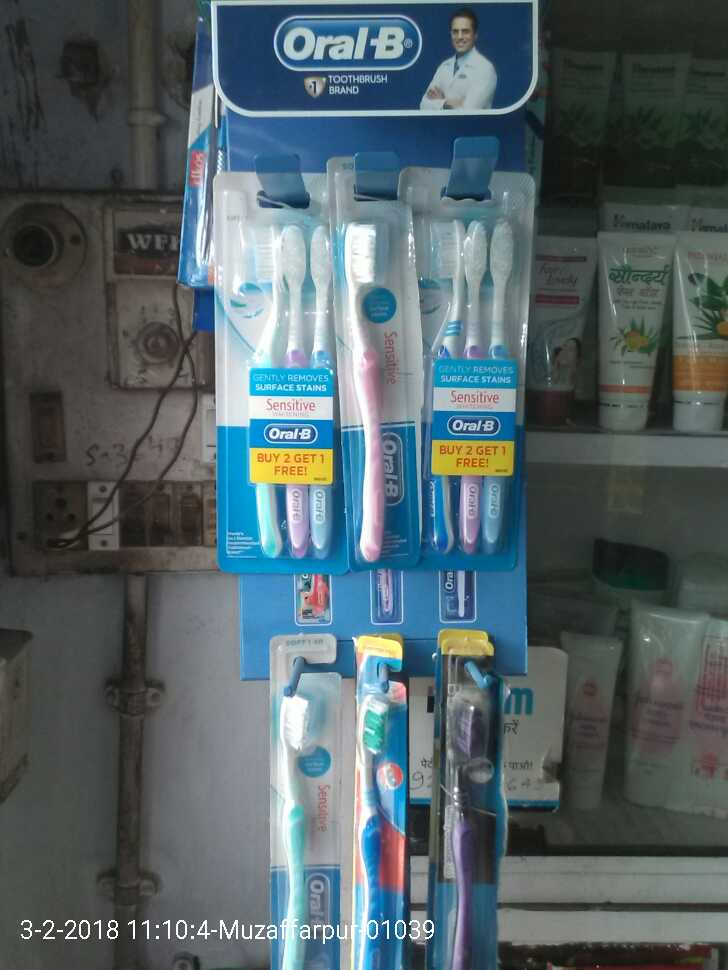oralb: (217, 167, 348, 564), (402, 172, 517, 561), (329, 193, 408, 572), (445, 640, 506, 966)
